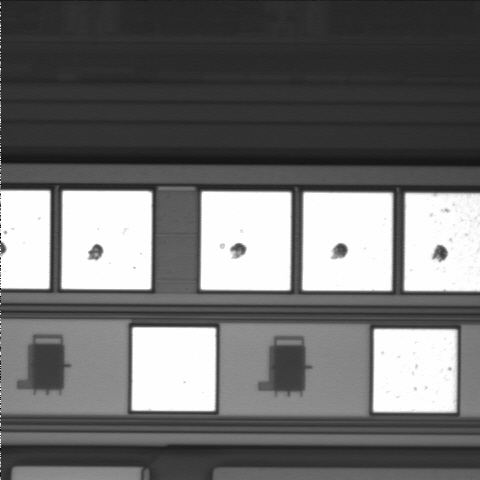pad: (302, 192, 392, 291), (62, 191, 152, 289), (201, 192, 291, 290), (132, 327, 216, 411), (373, 329, 457, 412)
